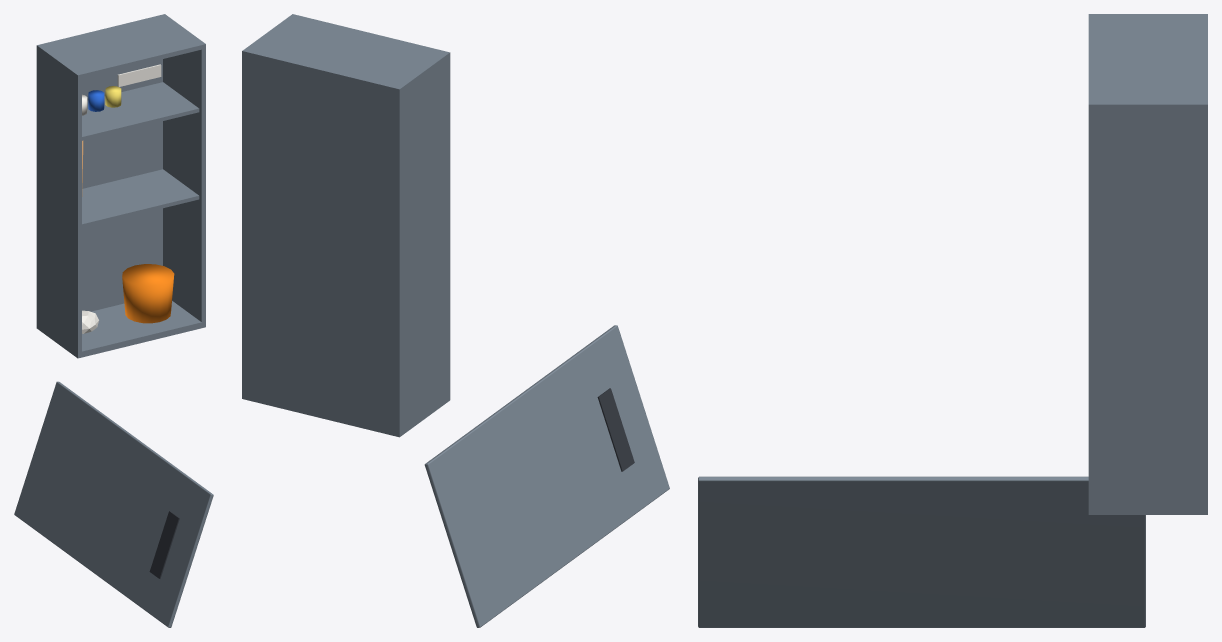
Rendered from CleaningCloset.fbx.
3 renders of one model, left to right at view 1: azimuth 30°, elevation 25°; view 2: azimuth 150°, elevation 25°; view 3: azimuth 270°, elevation 25°, orthographic. The views are drawn at different scales.
Parts seen in each view (by area): view 1: CleaningClosetBody, DoorBody.001; view 2: CleaningClosetBody, DoorBody.001; view 3: DoorBody.001, CleaningClosetBody.
Part boxes in pixels (x1=…): CleaningClosetBody: x1=36, y1=14, x2=205, y2=358; DoorBody.001: x1=14, y1=381, x2=213, y2=627; CleaningClosetBody: x1=242, y1=14, x2=450, y2=437; DoorBody.001: x1=424, y1=325, x2=669, y2=627; DoorBody.001: x1=698, y1=476, x2=1145, y2=627; CleaningClosetBody: x1=1088, y1=14, x2=1207, y2=514.
Size of the model in its own units: 1.21 by 2.98 by 2.14.
